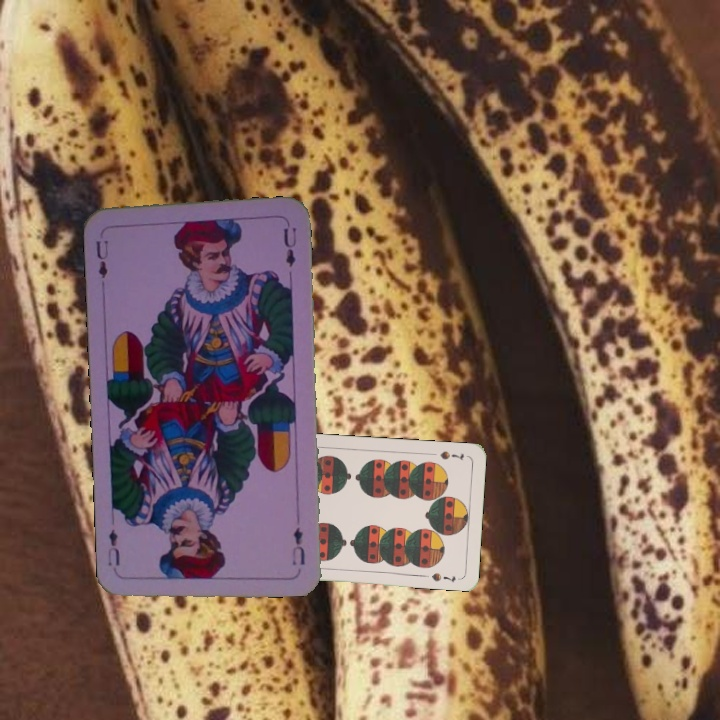EU: (288, 523, 308, 568), (92, 236, 111, 281)
S7: (436, 447, 466, 463)
